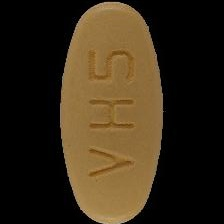0591-2319: (0, 0, 224, 224)
